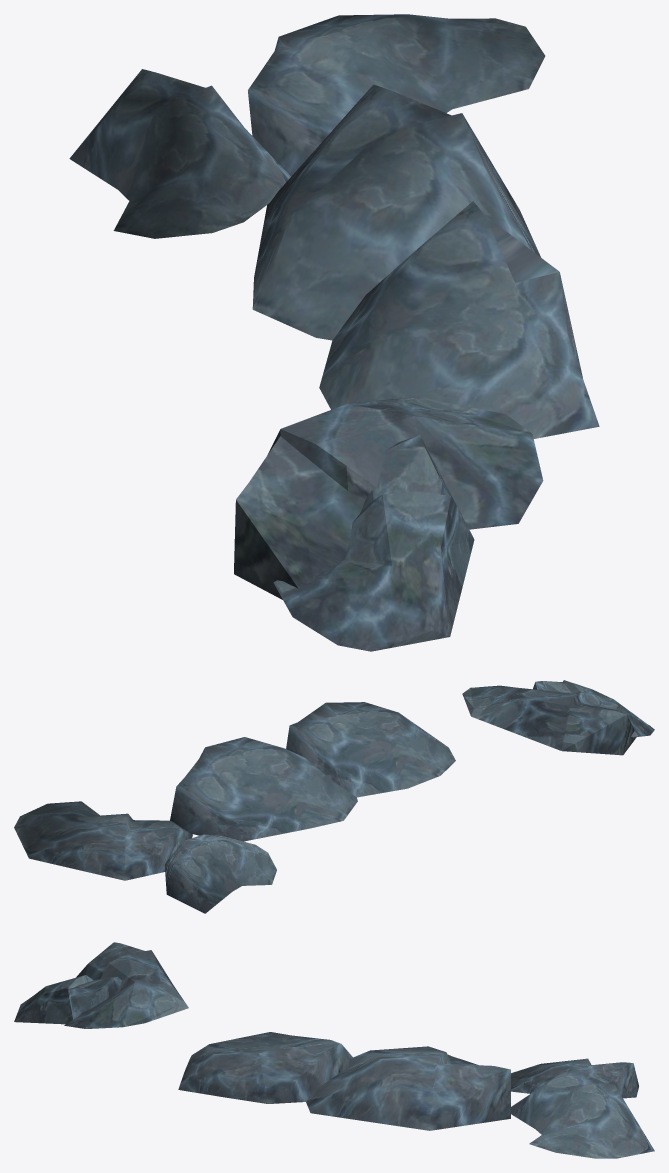
3 views of the same model, one above another, from view 1: azimuth 30°, elevation 25°; view 2: azimuth 150°, elevation 25°; view 3: azimuth 270°, elevation 25° (orthographic). The views are drawn at different scales.
Visible parts, largest first — view 1: Combined_Mesh_root_scene_2_Mesh_polySurface4186; view 2: Combined_Mesh_root_scene_2_Mesh_polySurface4186; view 3: Combined_Mesh_root_scene_2_Mesh_polySurface4186.
Part boxes in pixels (box(x1,y1,x2,y2)): Combined_Mesh_root_scene_2_Mesh_polySurface4186: box(69, 14, 599, 651); Combined_Mesh_root_scene_2_Mesh_polySurface4186: box(14, 680, 654, 913); Combined_Mesh_root_scene_2_Mesh_polySurface4186: box(14, 942, 654, 1158).
Bounding box in the file's own units: 44.34 × 7.98 × 62.94.
